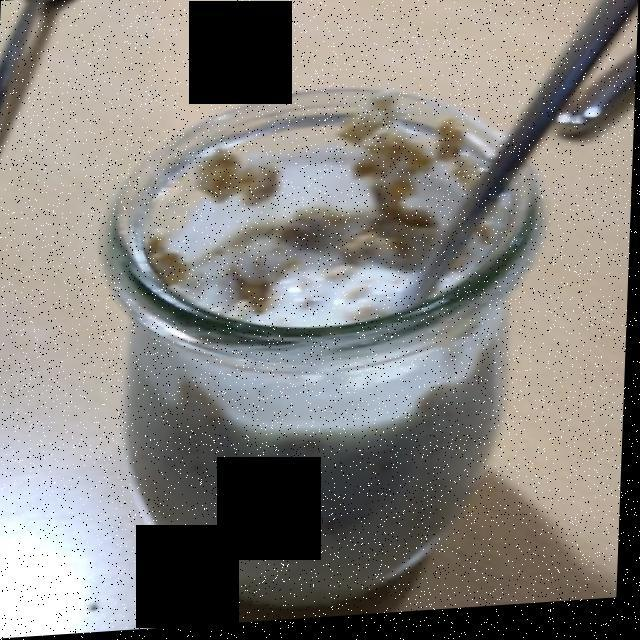oats: (151, 119, 437, 334)
yogurt: (120, 215, 495, 589)
